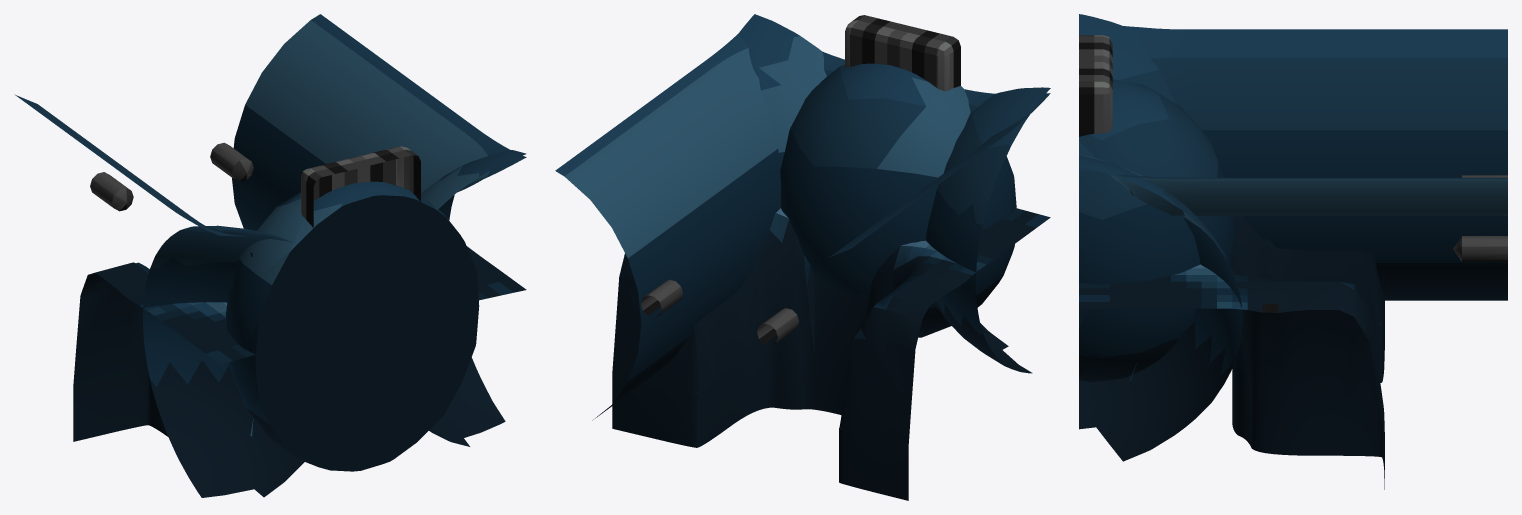
Rendered from camanis_boss_91.glb.
3 views of the same model, side by side, from view 1: azimuth 30°, elevation 25°; view 2: azimuth 150°, elevation 25°; view 3: azimuth 270°, elevation 25° (orthographic). The views are drawn at different scales.
Parts seen in each view (by area): view 1: camanis_boss_91_tank_core, camanis_boss_91_tank, camanis_boss_91_tank_lobe, camanis_boss_91_hull, camanis_boss_91_tank_lobe_m, camanis_boss_91_block_vent, camanis_boss_91_tank_rail, camanis_boss_91_tank_rail_m; view 2: camanis_boss_91_hull, camanis_boss_91_tank, camanis_boss_91_tank_core, camanis_boss_91_tank_lobe, camanis_boss_91_tank_lobe_m, camanis_boss_91_block_vent, camanis_boss_91_tank_rail, camanis_boss_91_tank_rail_m; view 3: camanis_boss_91_tank, camanis_boss_91_hull, camanis_boss_91_tank_core, camanis_boss_91_tank_lobe_m, camanis_boss_91_block_vent, camanis_boss_91_tank_lobe, camanis_boss_91_tank_rail_m.
Boxes of the visible parts, left/top/right/bottom form: camanis_boss_91_tank_core: left=225, top=181, right=479, bottom=471; camanis_boss_91_tank: left=14, top=14, right=526, bottom=436; camanis_boss_91_tank_lobe: left=142, top=225, right=305, bottom=497; camanis_boss_91_hull: left=73, top=246, right=526, bottom=441; camanis_boss_91_tank_lobe_m: left=421, top=150, right=526, bottom=446; camanis_boss_91_block_vent: left=301, top=146, right=420, bottom=227; camanis_boss_91_tank_rail: left=90, top=172, right=133, bottom=211; camanis_boss_91_tank_rail_m: left=210, top=142, right=253, bottom=181; camanis_boss_91_hull: left=612, top=208, right=1050, bottom=500; camanis_boss_91_tank: left=555, top=33, right=1050, bottom=420; camanis_boss_91_tank_core: left=780, top=63, right=1016, bottom=337; camanis_boss_91_tank_lobe: left=926, top=87, right=1050, bottom=373; camanis_boss_91_tank_lobe_m: left=739, top=14, right=826, bottom=167; camanis_boss_91_block_vent: left=845, top=15, right=960, bottom=91; camanis_boss_91_tank_rail: left=757, top=308, right=799, bottom=345; camanis_boss_91_tank_rail_m: left=641, top=279, right=682, bottom=316; camanis_boss_91_tank: left=1079, top=26, right=1507, bottom=381; camanis_boss_91_hull: left=1079, top=216, right=1384, bottom=489; camanis_boss_91_tank_core: left=1079, top=79, right=1236, bottom=381; camanis_boss_91_tank_lobe_m: left=1079, top=154, right=1242, bottom=461; camanis_boss_91_block_vent: left=1079, top=35, right=1112, bottom=136; camanis_boss_91_tank_lobe: left=1079, top=14, right=1175, bottom=103; camanis_boss_91_tank_rail_m: left=1453, top=236, right=1507, bottom=261.
Size of the model in its own units: 23.98 by 26 by 27.98.
